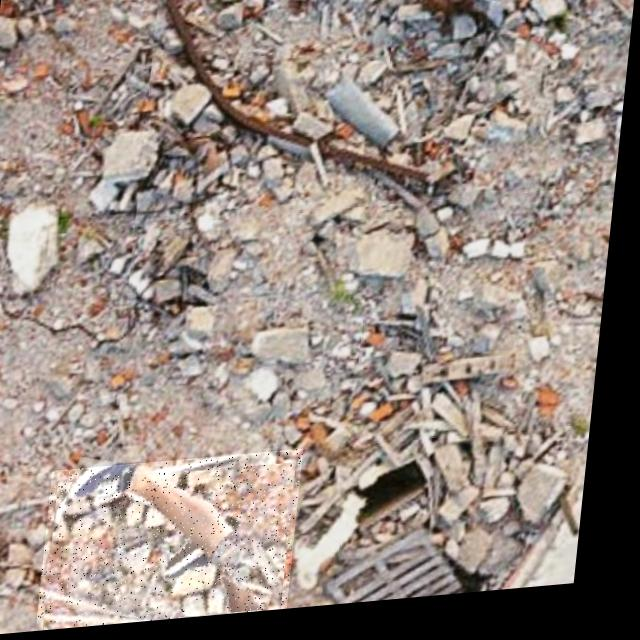Person in Rubble: (49, 455, 313, 633)
